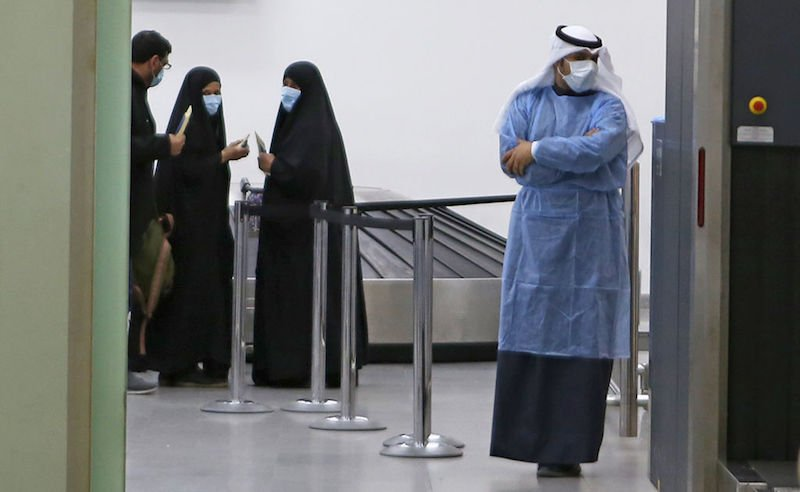Person: (487, 36, 632, 476), (266, 66, 357, 382), (166, 64, 241, 379)
